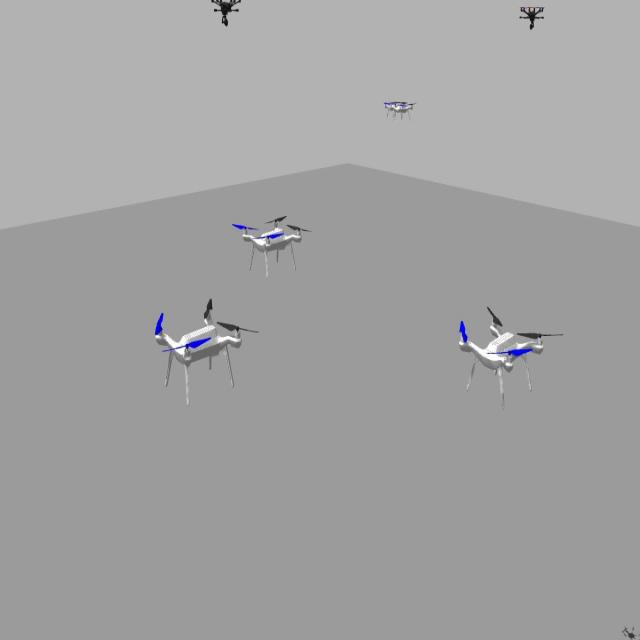Drone: (146, 293, 264, 407)
